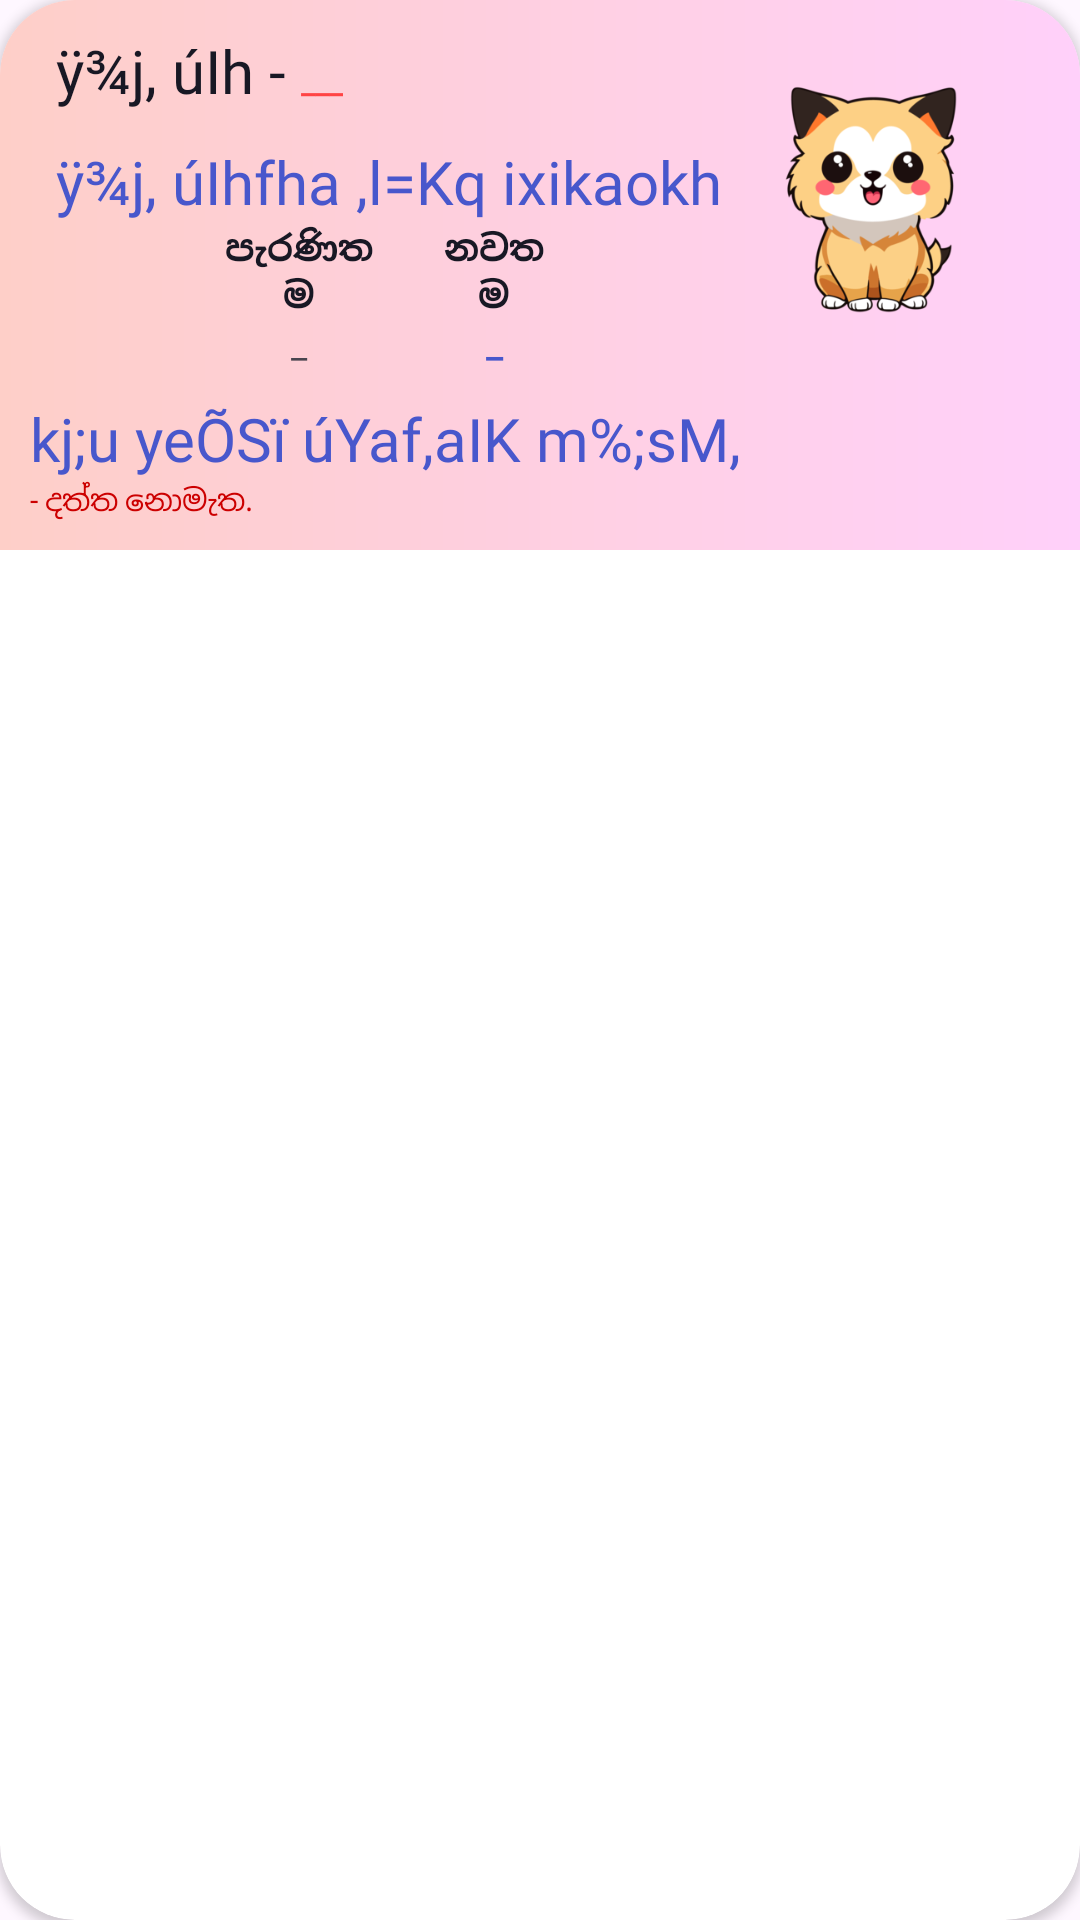

Screen size 1080w x 1920h. Icon name, then its center in pixels as (x=x, y=y):
correct animal: (x=871, y=200)
